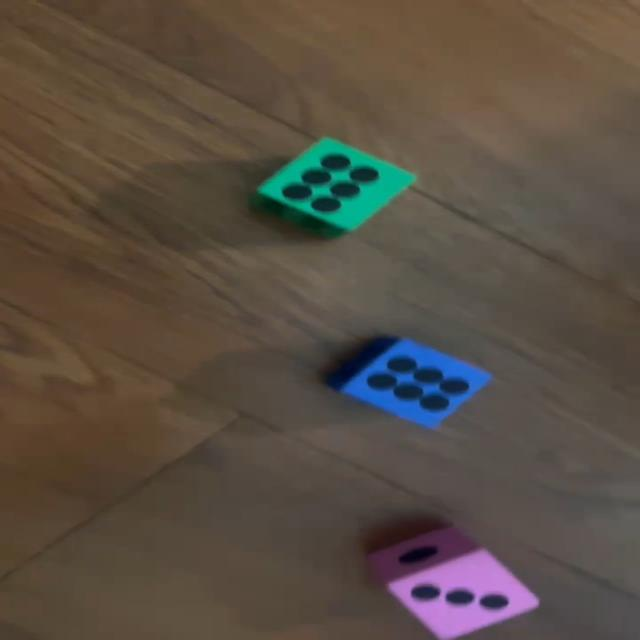blue_block: (336, 338, 492, 426)
